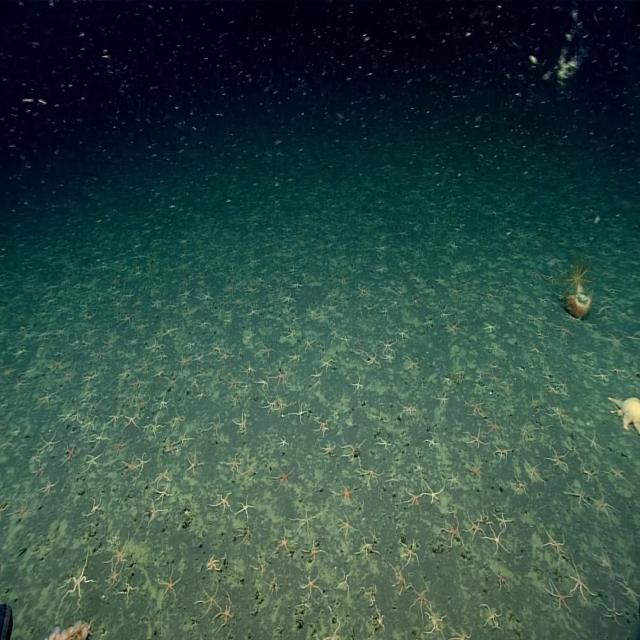brittle-stars: (62, 552, 94, 608), (406, 582, 432, 622), (547, 578, 572, 614), (292, 506, 320, 538), (569, 559, 590, 601), (106, 533, 131, 568), (482, 524, 508, 556), (157, 567, 182, 598), (196, 584, 221, 613), (216, 590, 234, 630), (424, 610, 449, 638), (390, 562, 411, 595), (479, 602, 504, 628), (464, 510, 484, 542), (442, 520, 462, 551), (544, 528, 564, 559), (602, 595, 622, 625), (355, 535, 377, 562), (335, 480, 355, 509), (297, 573, 321, 597), (272, 527, 290, 559), (302, 538, 324, 564), (465, 428, 488, 452), (87, 425, 108, 451), (422, 481, 445, 504), (358, 466, 384, 486), (401, 540, 420, 567), (106, 562, 123, 592), (8, 500, 31, 522), (341, 442, 363, 465), (143, 502, 167, 523), (565, 484, 588, 505), (40, 474, 60, 498), (39, 430, 59, 454), (486, 415, 505, 440), (120, 578, 138, 604), (492, 566, 510, 592), (548, 447, 568, 470), (594, 495, 613, 519), (371, 604, 386, 634), (525, 460, 543, 484), (211, 493, 231, 514), (509, 475, 529, 496), (36, 389, 58, 408), (272, 367, 290, 390), (185, 451, 202, 475), (235, 495, 252, 519), (338, 512, 354, 537), (583, 432, 603, 452), (272, 466, 292, 486), (84, 452, 102, 474), (205, 414, 223, 436), (144, 417, 163, 437), (607, 465, 629, 482), (84, 496, 102, 516), (134, 453, 150, 475), (495, 508, 511, 530), (469, 456, 482, 482), (225, 452, 240, 474), (154, 486, 172, 504), (405, 488, 422, 507), (548, 402, 565, 421), (319, 439, 336, 458), (146, 338, 163, 357), (106, 409, 122, 429), (225, 372, 241, 392), (82, 412, 97, 433), (242, 461, 257, 482), (291, 402, 307, 421), (518, 419, 531, 442), (111, 437, 128, 454), (63, 442, 76, 464), (315, 418, 330, 437), (122, 455, 136, 475), (234, 413, 248, 433), (350, 373, 363, 394), (468, 401, 484, 418), (376, 435, 392, 452), (400, 403, 417, 419), (382, 334, 397, 352), (170, 410, 184, 429), (129, 376, 145, 392), (241, 361, 256, 378), (176, 353, 191, 370), (125, 412, 139, 430), (594, 366, 608, 384), (256, 376, 270, 394), (425, 432, 438, 451), (154, 470, 170, 485), (487, 341, 503, 356), (495, 444, 509, 461), (453, 363, 466, 381), (304, 333, 316, 352), (259, 342, 273, 358), (280, 291, 296, 305), (405, 356, 419, 372), (448, 470, 459, 490), (489, 367, 501, 385), (218, 349, 232, 364), (163, 323, 176, 339), (365, 352, 378, 368), (446, 321, 462, 334), (180, 430, 191, 448), (320, 358, 334, 372), (309, 367, 322, 382), (151, 294, 163, 310), (325, 299, 336, 316), (93, 348, 106, 362), (383, 350, 396, 364), (284, 327, 296, 342), (156, 396, 168, 410), (530, 343, 542, 357), (438, 392, 449, 407), (484, 321, 496, 334), (289, 279, 303, 290), (413, 459, 423, 474), (277, 436, 289, 448), (389, 298, 400, 309), (286, 263, 296, 275), (380, 282, 390, 294), (231, 393, 239, 407)
